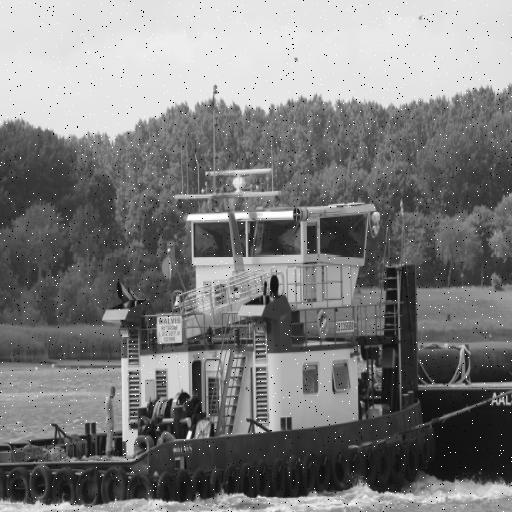tugboat: (1, 165, 436, 512)
